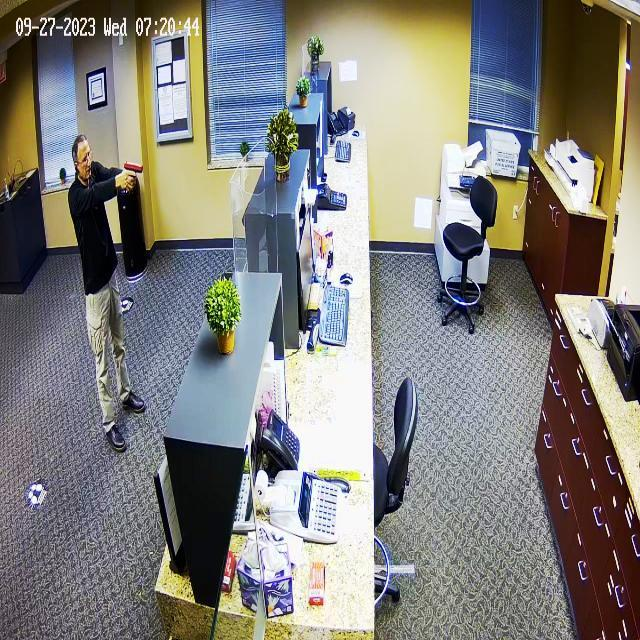Gun: (118, 156, 154, 192)
